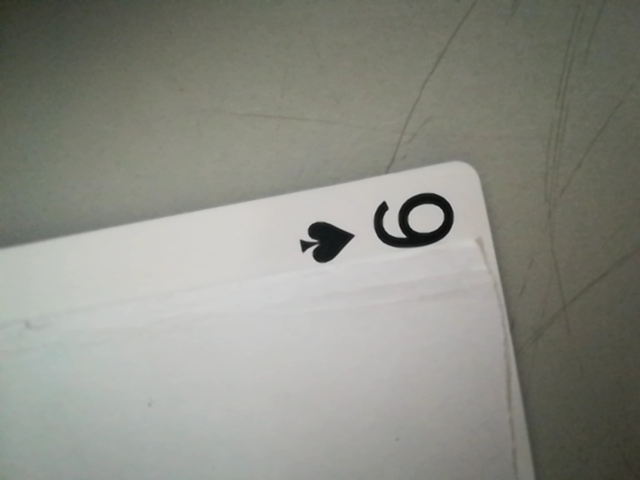ht 9: (283, 181, 478, 269)
